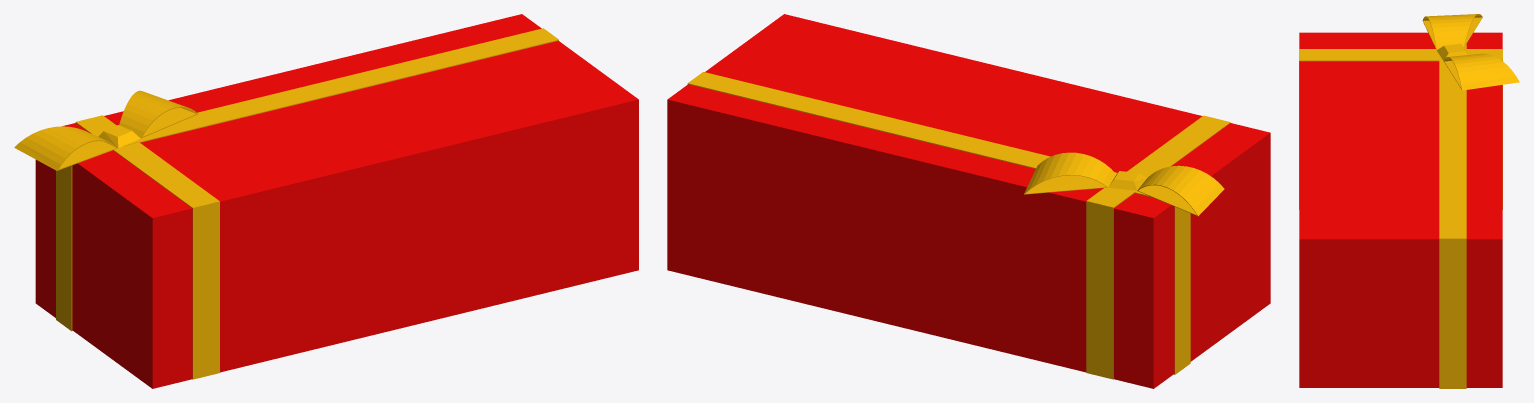
Rendered from Prop_Christmas_Present_Red_06.FBX.
3 renders of one model, left to right at view 1: azimuth 30°, elevation 25°; view 2: azimuth 150°, elevation 25°; view 3: azimuth 270°, elevation 25°, orthographic. The views are drawn at different scales.
Visible parts, largest first — view 1: Prop_Christmas_Present_Red_06; view 2: Prop_Christmas_Present_Red_06; view 3: Prop_Christmas_Present_Red_06.
Boxes of the visible parts, x1,y1,x2,y2 form: Prop_Christmas_Present_Red_06: [14, 14, 638, 388]; Prop_Christmas_Present_Red_06: [667, 14, 1270, 388]; Prop_Christmas_Present_Red_06: [1299, 14, 1519, 388].
Size of the model in its own units: 852 by 298 by 360.
